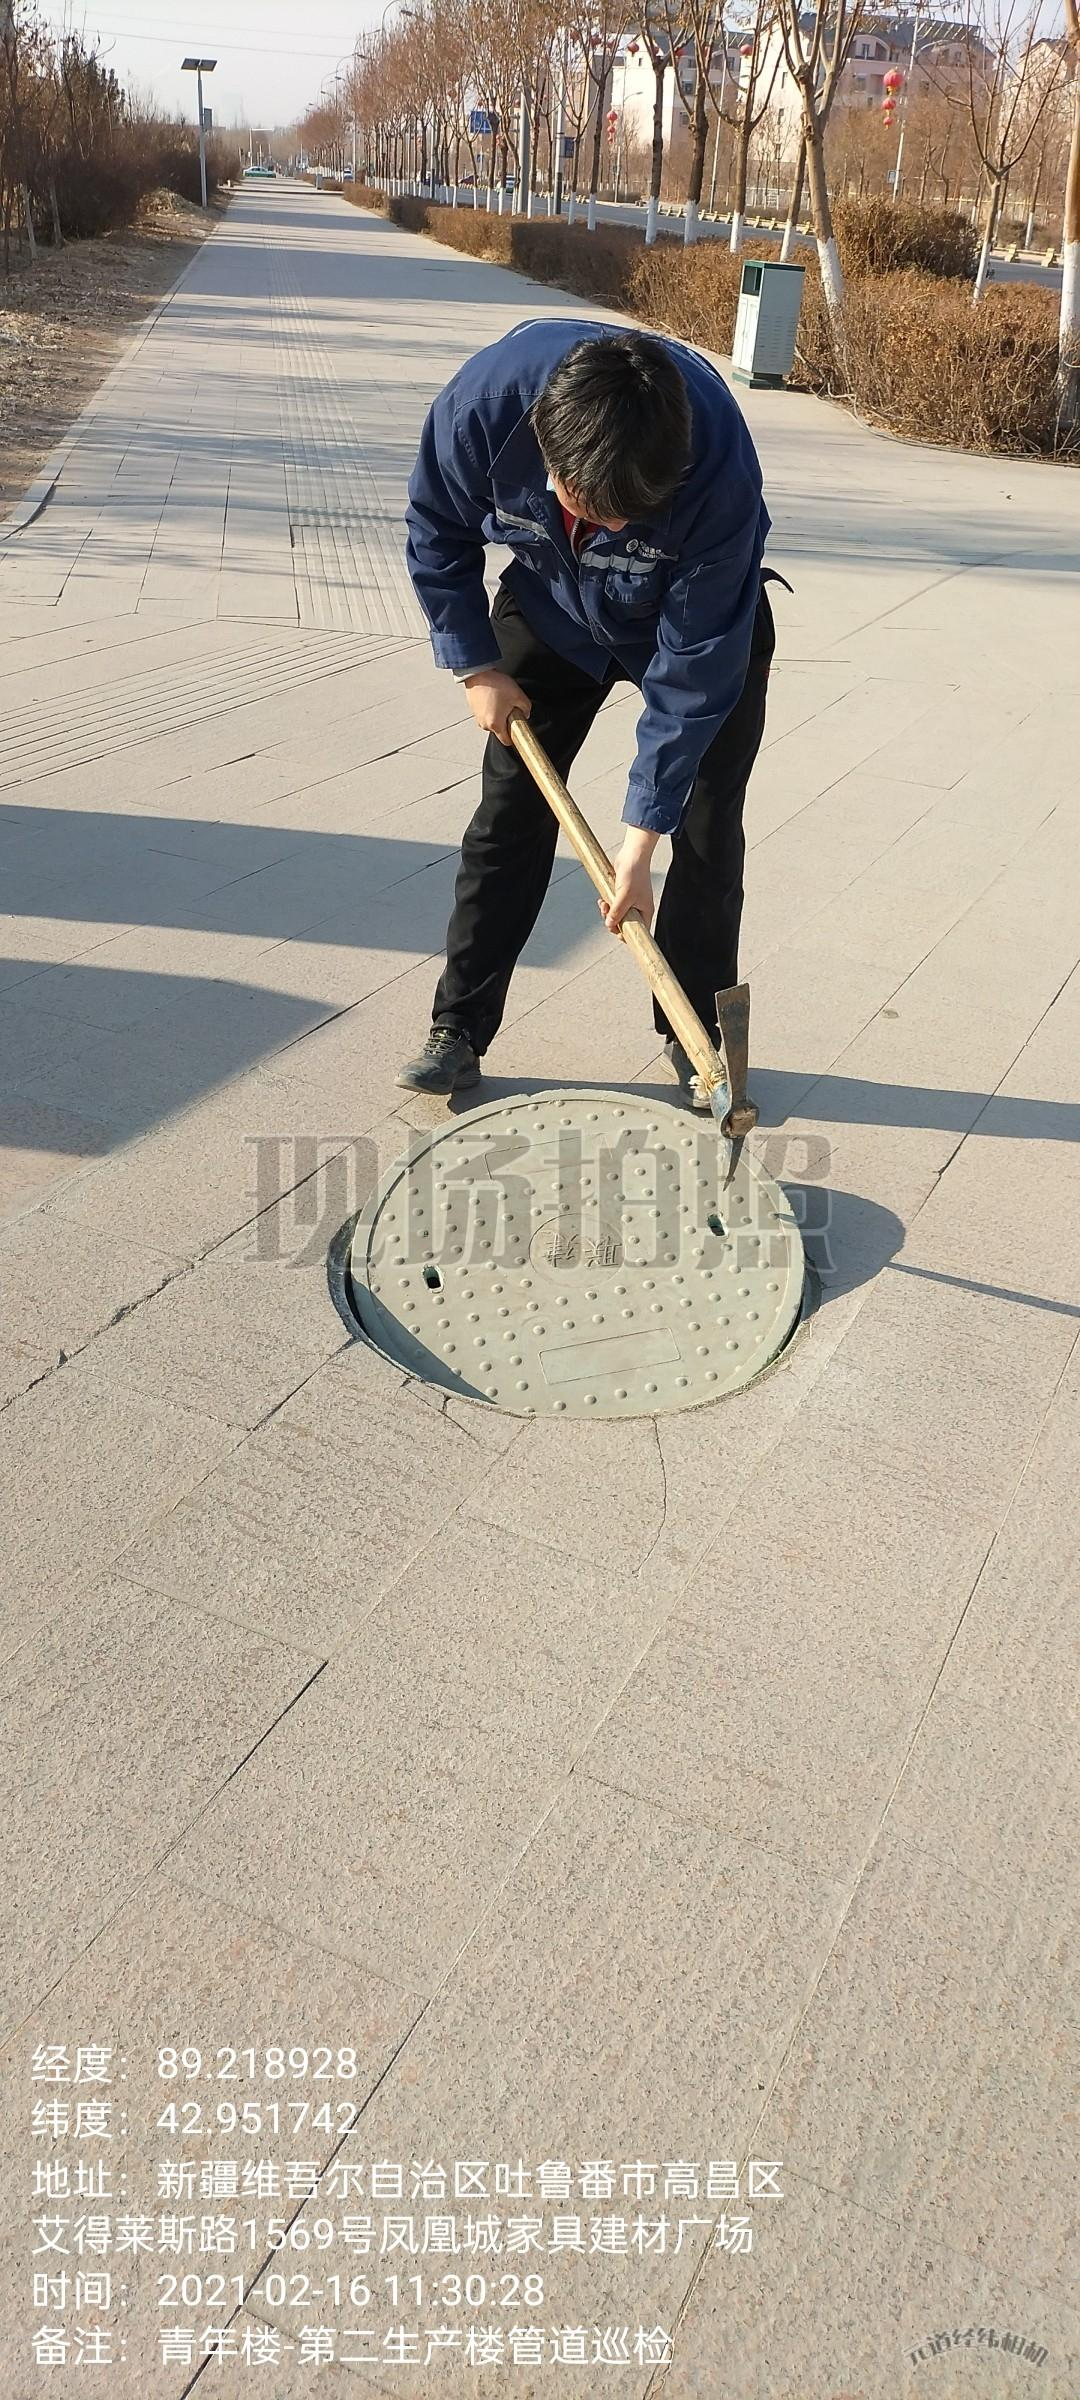wellcover: (321, 1071, 925, 1509)
